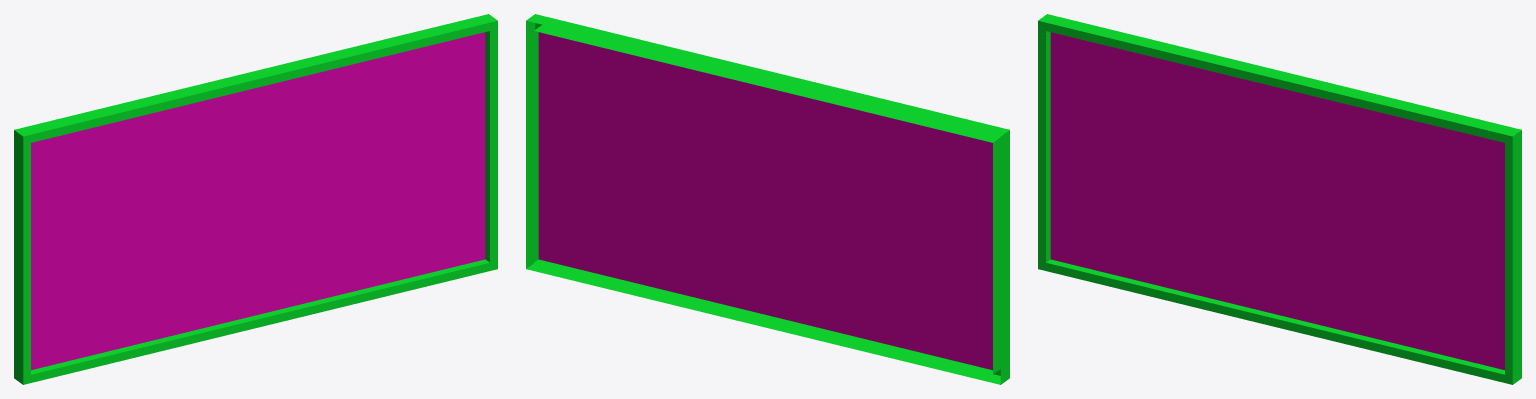
Rendered from BigWindow.fbx.
The picture shows the model from 3 angles, left to right: view 1: azimuth 30°, elevation 25°; view 2: azimuth 150°, elevation 25°; view 3: azimuth 330°, elevation 25°; orthographic projection.
Visible parts, largest first — view 1: WindowRim_Glass, WindowRim; view 2: WindowRim_Glass, WindowRim; view 3: WindowRim_Glass, WindowRim.
Part boxes in pixels (box(x1,y1,x2,y2)): WindowRim_Glass: box(31, 32, 485, 369); WindowRim: box(14, 14, 497, 384); WindowRim_Glass: box(538, 32, 992, 370); WindowRim: box(526, 14, 1009, 384); WindowRim_Glass: box(1050, 32, 1504, 369); WindowRim: box(1038, 14, 1521, 384).
Bounding box in the file's own units: 300 × 150 × 10.04.
